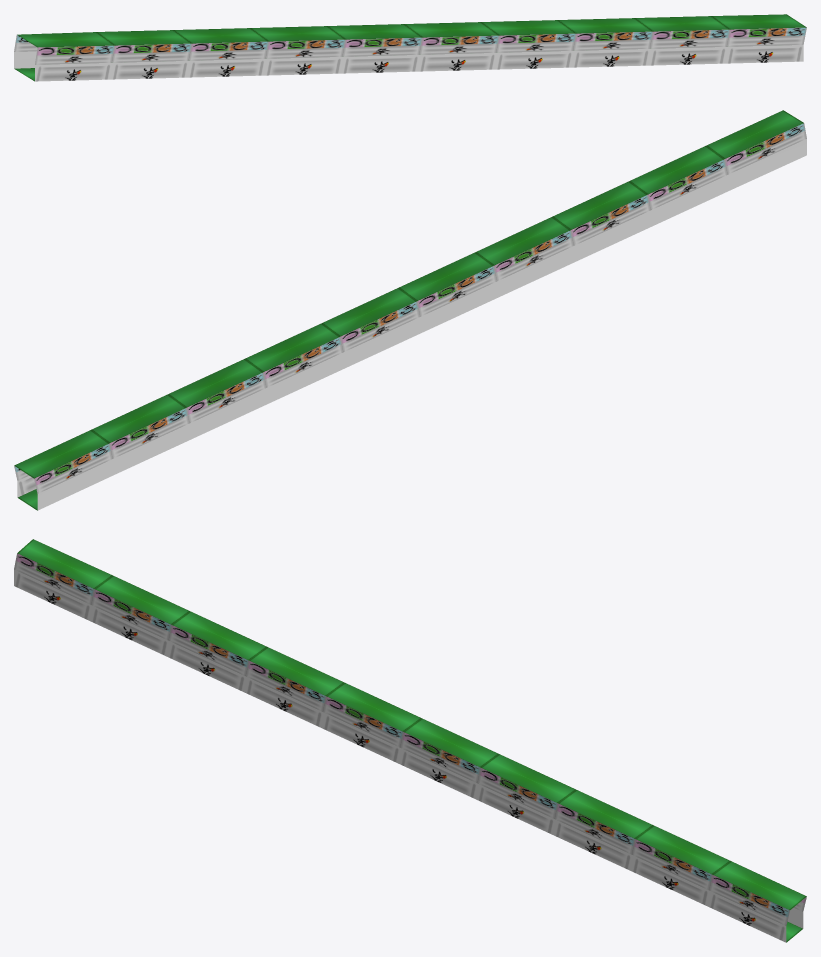
The model's file is CourseSummer_Wall_L_13.fbx.
3 renders of one model, top to bottom at view 1: azimuth 30°, elevation 25°; view 2: azimuth 210°, elevation 25°; view 3: azimuth 330°, elevation 25°, orthographic.
Parts seen in each view (by area): view 1: polySurface75; view 2: polySurface75; view 3: polySurface75.
Part boxes in pixels (x1,y1,x2,y2): polySurface75: [14, 14, 806, 81]; polySurface75: [14, 110, 806, 510]; polySurface75: [14, 539, 806, 942].
Size of the model in its own units: 48.38 by 11.98 by 2.01.
1 material, 1 textured.
